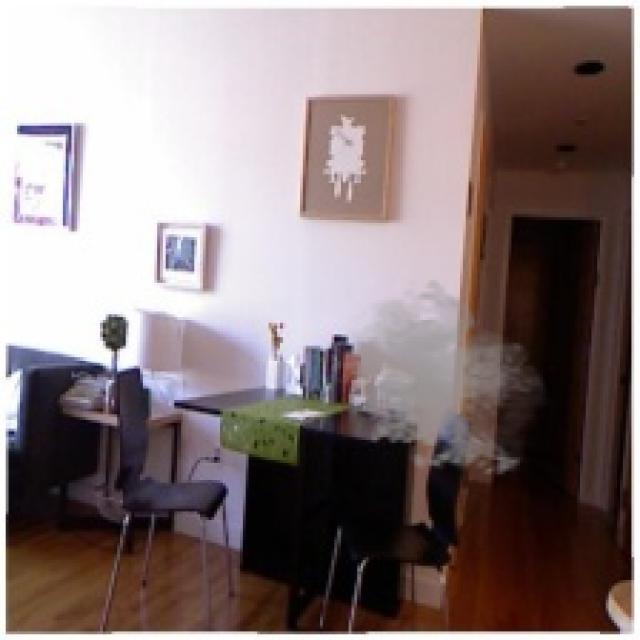Smoke: (334, 277, 552, 480)
